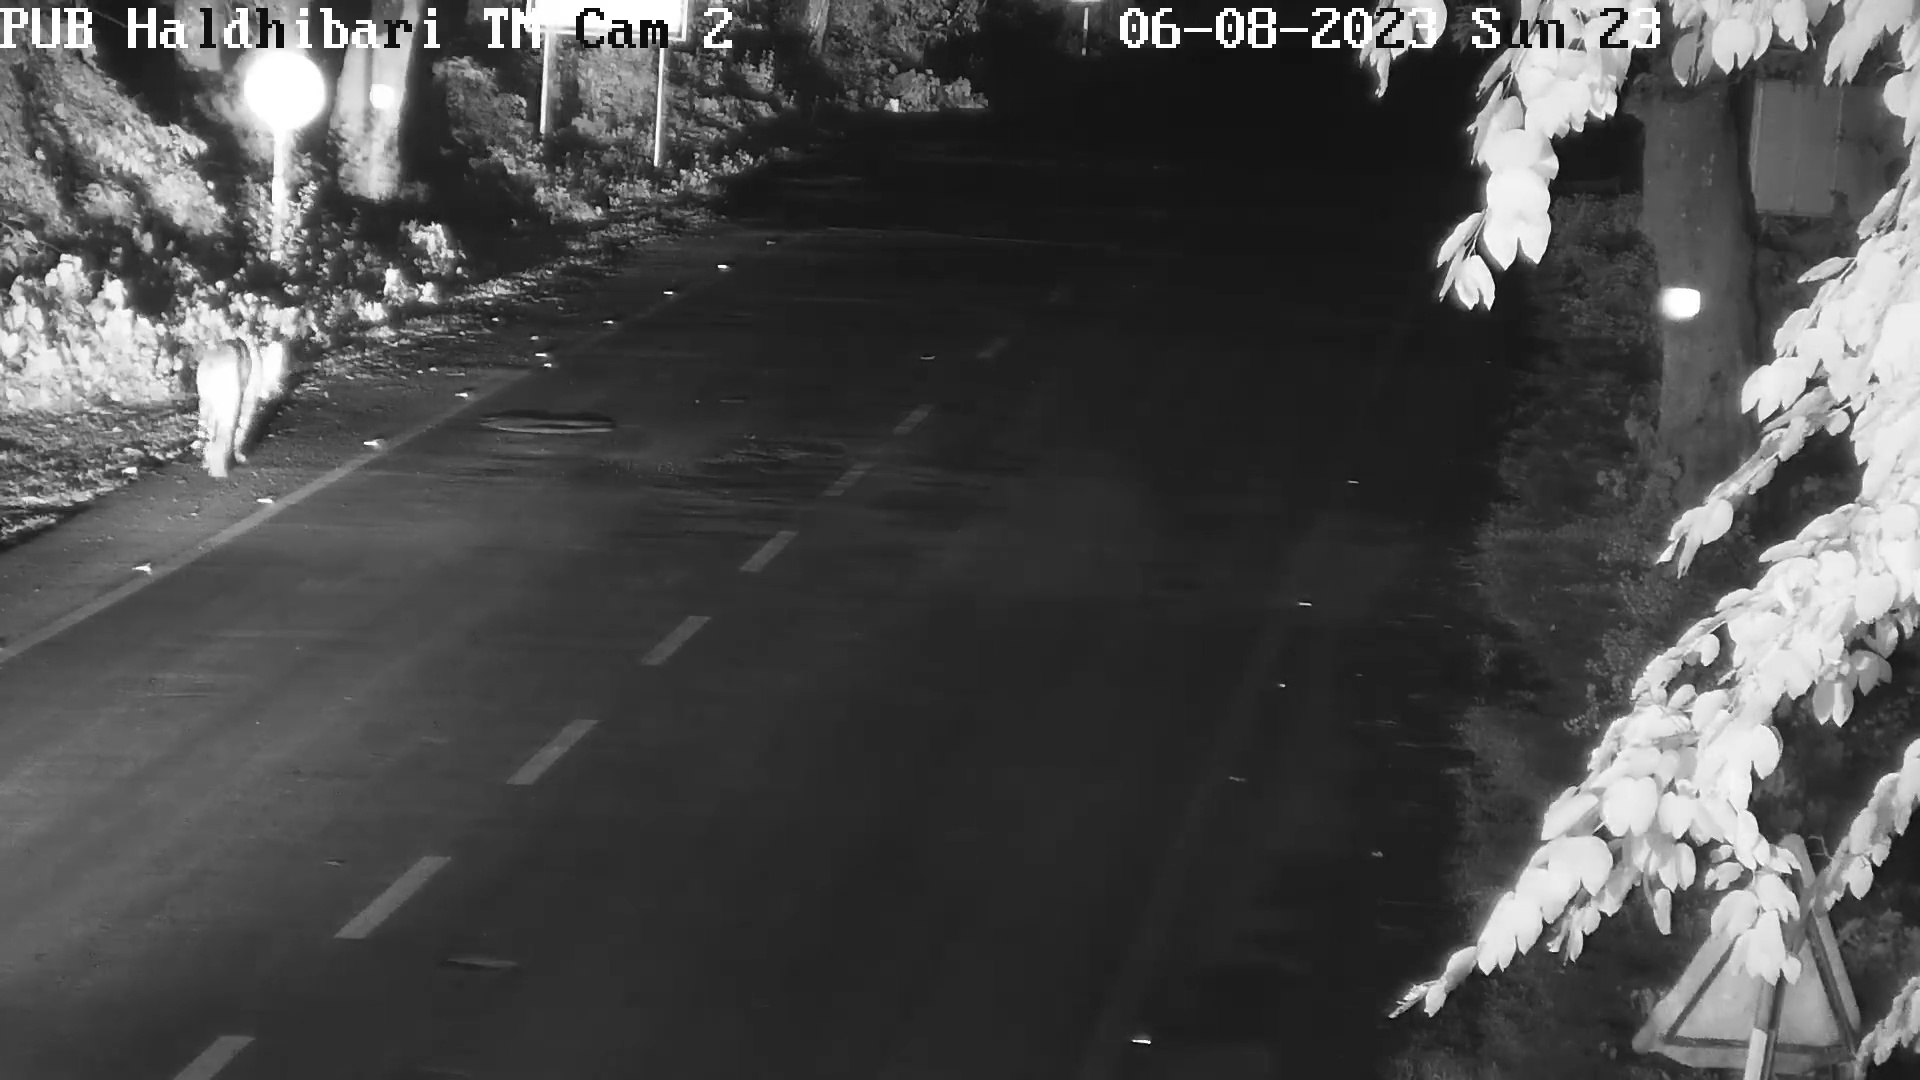tigers: (187, 342, 291, 479)
